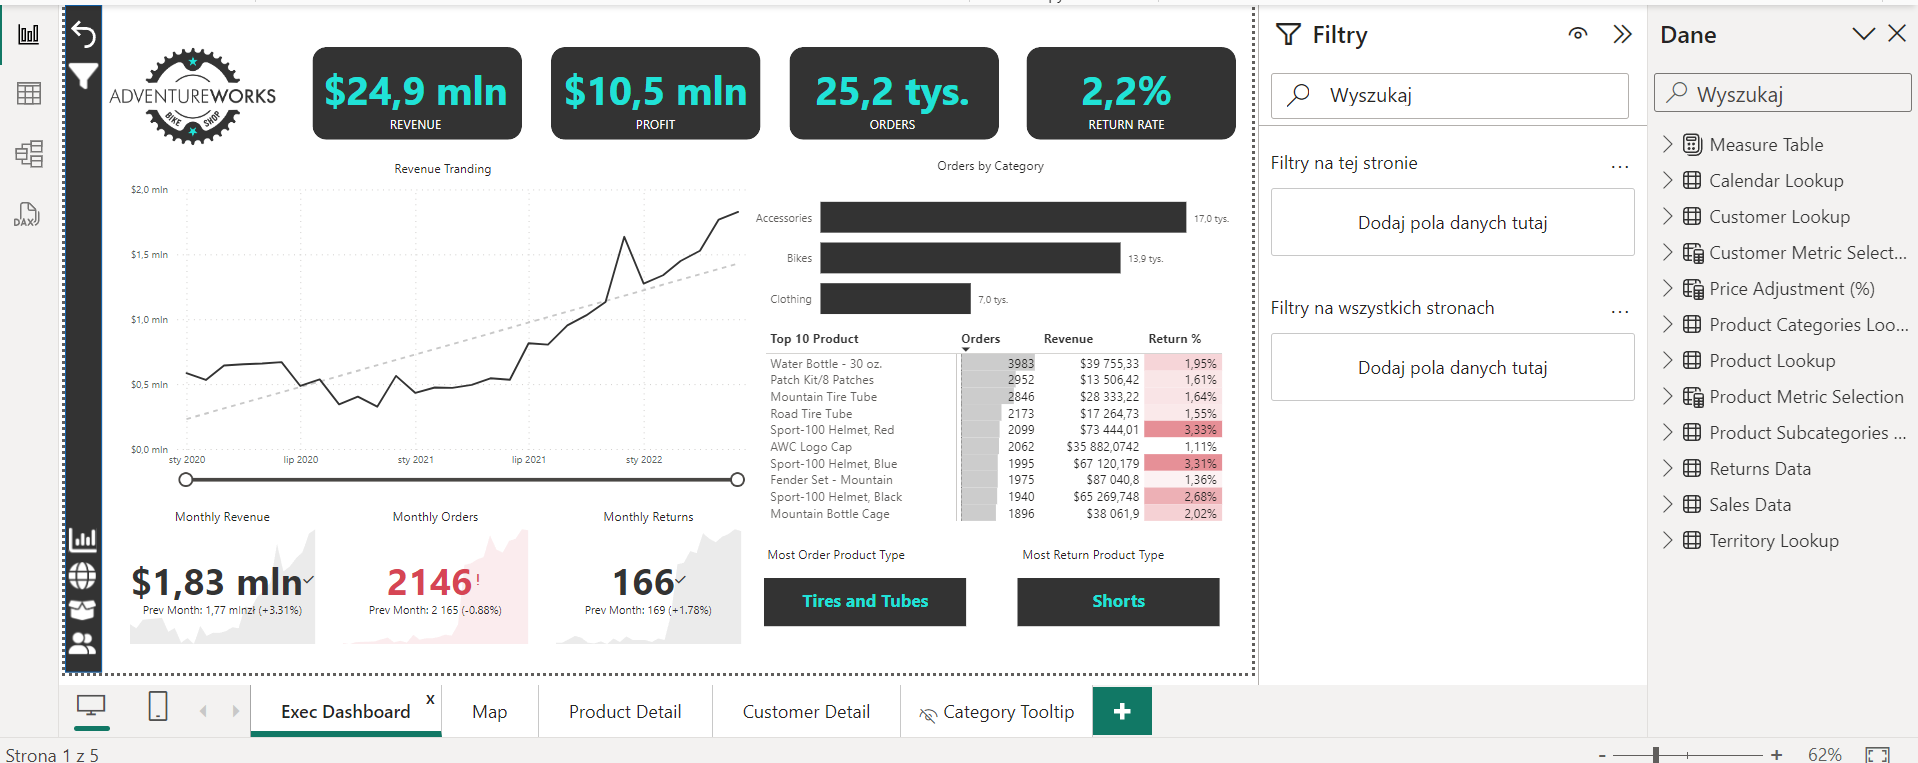

This screenshot's page, from the dashboard's own definition file:
{"tool":"powerbi","page":{"name":"Exec Dashboard","canvas":[1280,720],"ordinal":0},"visuals":[{"type":"group","id":"g1","title":"KPI Backgrounds","box":[242.7,30.6,1020.7,136],"z":0,"group":"g3"},{"type":"card","fields":{"Values":["Measure Table.Total Profit"]},"box":[502,30.6,270,136],"z":0,"group":"g2"},{"type":"image","title":"AW Logo","box":[22,32,230,132],"z":0},{"type":"shape","box":[267.4,45.9,226,100],"z":0,"group":"g1"},{"type":"shape","title":"Left Nav Background","box":[0,0,40,720],"z":1000},{"type":"card","fields":{"Values":["Measure Table.Total Revenue"]},"box":[242.7,30.6,270,136],"z":1000,"group":"g1"},{"type":"group","id":"g2","title":"KPI Values","box":[502,30.6,778,136],"z":1000,"group":"g3"},{"type":"card","fields":{"Values":["Measure Table.Total Orders"]},"box":[758,30.6,270,136],"z":1000,"group":"g2"},{"type":"group","id":"g3","title":"KPIs","box":[242.7,30.6,1037.3,136],"z":2000},{"type":"card","fields":{"Values":["Measure Table.Return Rate"]},"box":[1010,30.6,270,136],"z":2000,"group":"g2"},{"type":"shape","box":[780.7,45.9,226,100],"z":2000,"group":"g1"},{"type":"shape","box":[1037.4,45.9,226,100],"z":3000,"group":"g1"},{"type":"lineChart","title":"Revenue Tranding","fields":{"Y":["Measure Table.Total Revenue"],"Category":["Calendar Lookup.Year","Calendar Lookup.Start of Quarter","Calendar Lookup.Start of Month"]},"box":[64,166,686,356],"z":3000},{"type":"shape","box":[524,45.9,226,100],"z":4000,"group":"g1"},{"type":"kpi","title":"Monthly Revenue","fields":{"Indicator":["Measure Table.Total Revenue"],"TrendLine":["Calendar Lookup.Start of Month"],"Goal":["Measure Table.Previous Month Revenue"]},"box":[64,542,210,152],"z":4000},{"type":"kpi","title":"Monthly Returns","fields":{"TrendLine":["Calendar Lookup.Start of Month"],"Indicator":["Measure Table.Total Returns"],"Goal":["Measure Table.Previous Month Returns"]},"box":[524,542,210,152],"z":5000},{"type":"kpi","title":"Monthly Orders","fields":{"TrendLine":["Calendar Lookup.Start of Month"],"Indicator":["Measure Table.Total Orders"],"Goal":["Measure Table.Previous Month Orders"]},"box":[294,542,210,152],"z":6000},{"type":"clusteredBarChart","title":"Orders by Category","fields":{"Category":["Product Categories Lookup.CategoryName"],"Y":["Measure Table.Total Orders"]},"box":[734,164,528,194],"z":7000},{"type":"pivotTable","fields":{"Rows":["Product Lookup.ProductName"],"Values":["Measure Table.Total Orders","Measure Table.Total Revenue","Measure Table.Return Rate"]},"box":[750,344,514,220],"z":8000},{"type":"card","fields":{"Values":["Min(Product Subcategories Lookup.SubcategoryName)"]},"box":[754,618,218,52],"z":9000},{"type":"textbox","box":[752.4,577.6,200.6,40.4],"z":10000},{"type":"card","fields":{"Values":["Min(Product Subcategories Lookup.SubcategoryName)"]},"box":[1028,618,218,52],"z":11000},{"type":"textbox","box":[1027.4,577.6,199,40.4],"z":12000},{"type":"actionButton","box":[0,11.7,40.1,40.1],"z":13000},{"type":"actionButton","box":[0,558.3,41.7,38.3],"z":14000},{"type":"actionButton","box":[0.6,633.4,40.4,37.2],"z":15000},{"type":"actionButton","box":[0.6,669.8,40.4,37.2],"z":16000},{"type":"actionButton","box":[0.6,597,40.4,37.2],"z":17000},{"type":"actionButton","box":[0,56.7,40,40],"z":18000}]}

Visuals, with their boxes on the page's 1280x720 design canvas (x1, y1, x2, y2). These are canvas units, not pixel positions in the 1918x763 screenshot, which may show the page scaled, cropped or inside an application window:
"KPI Backgrounds" group: region(243, 31, 1263, 167)
card - Measure Table.Total Profit: region(502, 31, 772, 167)
"AW Logo" image: region(22, 32, 252, 164)
shape: region(267, 46, 493, 146)
"Left Nav Background" shape: region(0, 0, 40, 720)
card - Measure Table.Total Revenue: region(243, 31, 513, 167)
"KPI Values" group: region(502, 31, 1280, 167)
card - Measure Table.Total Orders: region(758, 31, 1028, 167)
"KPIs" group: region(243, 31, 1280, 167)
card - Measure Table.Return Rate: region(1010, 31, 1280, 167)
shape: region(781, 46, 1007, 146)
shape: region(1037, 46, 1263, 146)
"Revenue Tranding" lineChart: region(64, 166, 750, 522)
shape: region(524, 46, 750, 146)
"Monthly Revenue" kpi: region(64, 542, 274, 694)
"Monthly Returns" kpi: region(524, 542, 734, 694)
"Monthly Orders" kpi: region(294, 542, 504, 694)
"Orders by Category" clusteredBarChart: region(734, 164, 1262, 358)
pivotTable - Product Lookup.ProductName x Measure Table.Total Orders: region(750, 344, 1264, 564)
card - Min(Product Subcategories Lookup.SubcategoryName): region(754, 618, 972, 670)
textbox: region(752, 578, 953, 618)
card - Min(Product Subcategories Lookup.SubcategoryName): region(1028, 618, 1246, 670)
textbox: region(1027, 578, 1226, 618)
actionButton: region(0, 12, 40, 52)
actionButton: region(0, 558, 42, 597)
actionButton: region(1, 633, 41, 671)
actionButton: region(1, 670, 41, 707)
actionButton: region(1, 597, 41, 634)
actionButton: region(0, 57, 40, 97)
